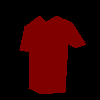abbigliamento_uomo: (19, 15, 86, 94)
